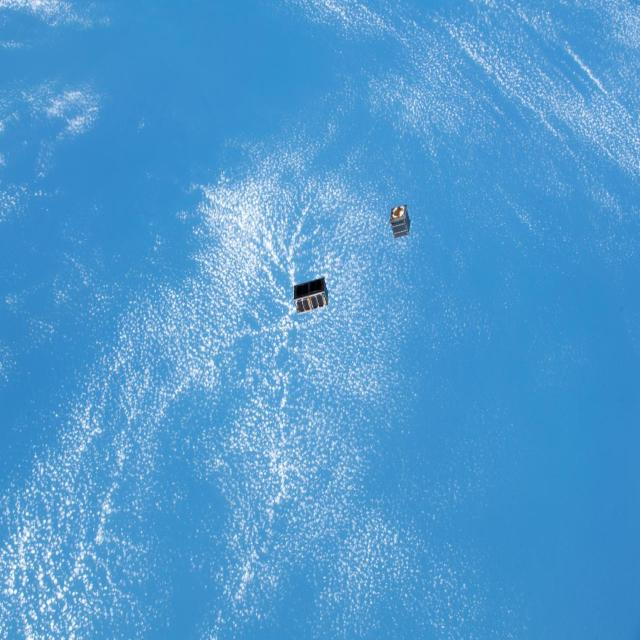medium_debris: (294, 278, 329, 313), (390, 204, 410, 237)
